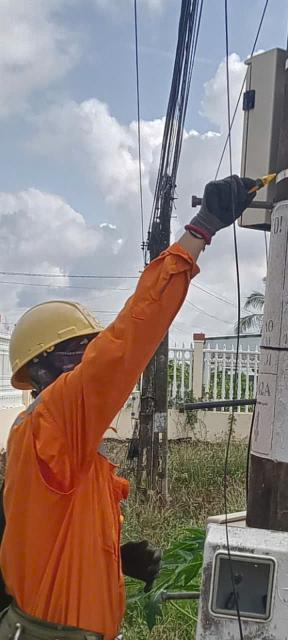gloves: (178, 168, 279, 242), (117, 529, 175, 600)
helmet: (0, 284, 120, 396)
